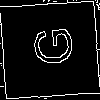G: (24, 25, 74, 68)
